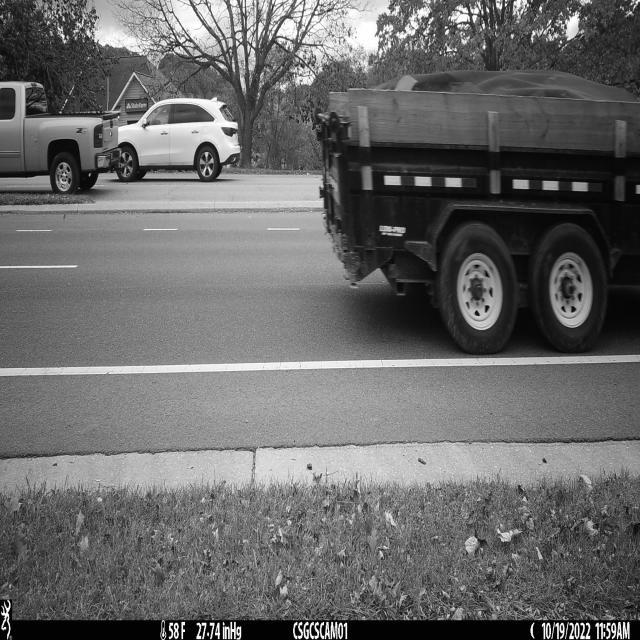Pickup: (0, 82, 121, 195)
SUV: (117, 99, 240, 182)
Trailer: (319, 70, 640, 358)
